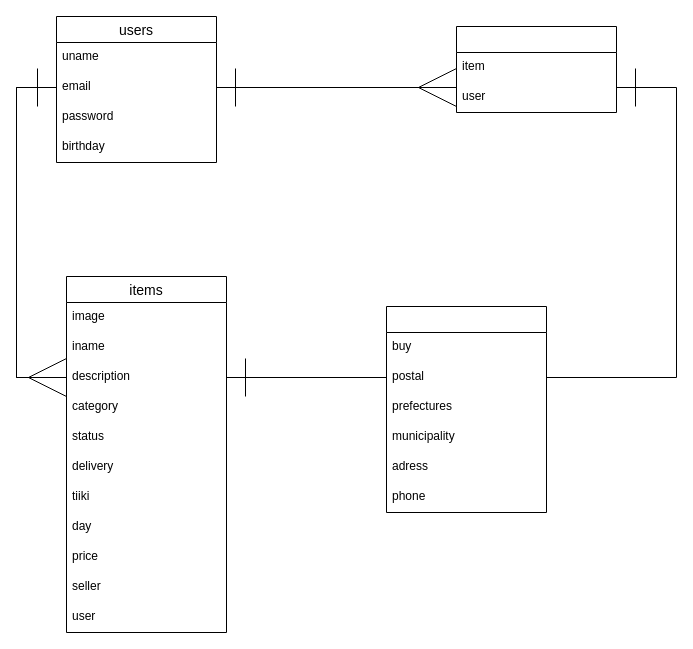
This 693x649 diagram has some shape labels left out. The shapes that lost their labels are listed below. From the top down, each one's box as (x1, y1, x2, y2) in pixels, then its label:
(456, 26, 616, 112): buys
(386, 306, 546, 512): adresses
